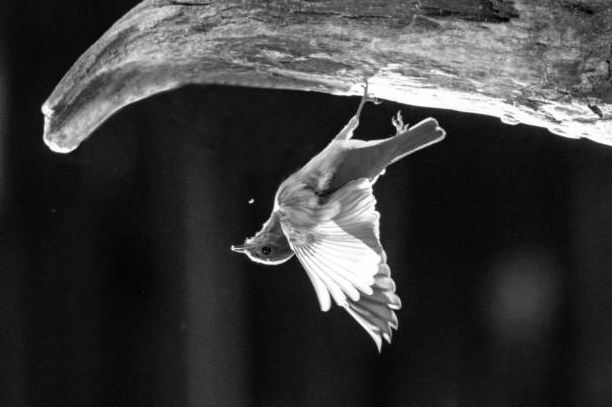Bird: (223, 75, 447, 358)
